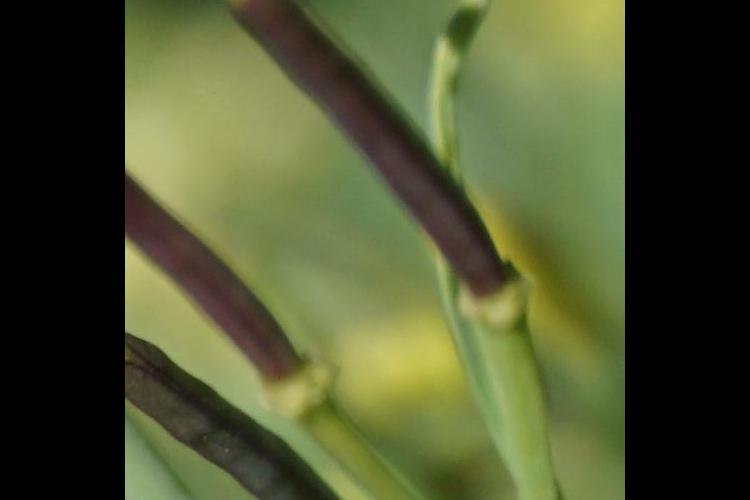pod: (201, 1, 531, 318), (130, 177, 345, 416)
